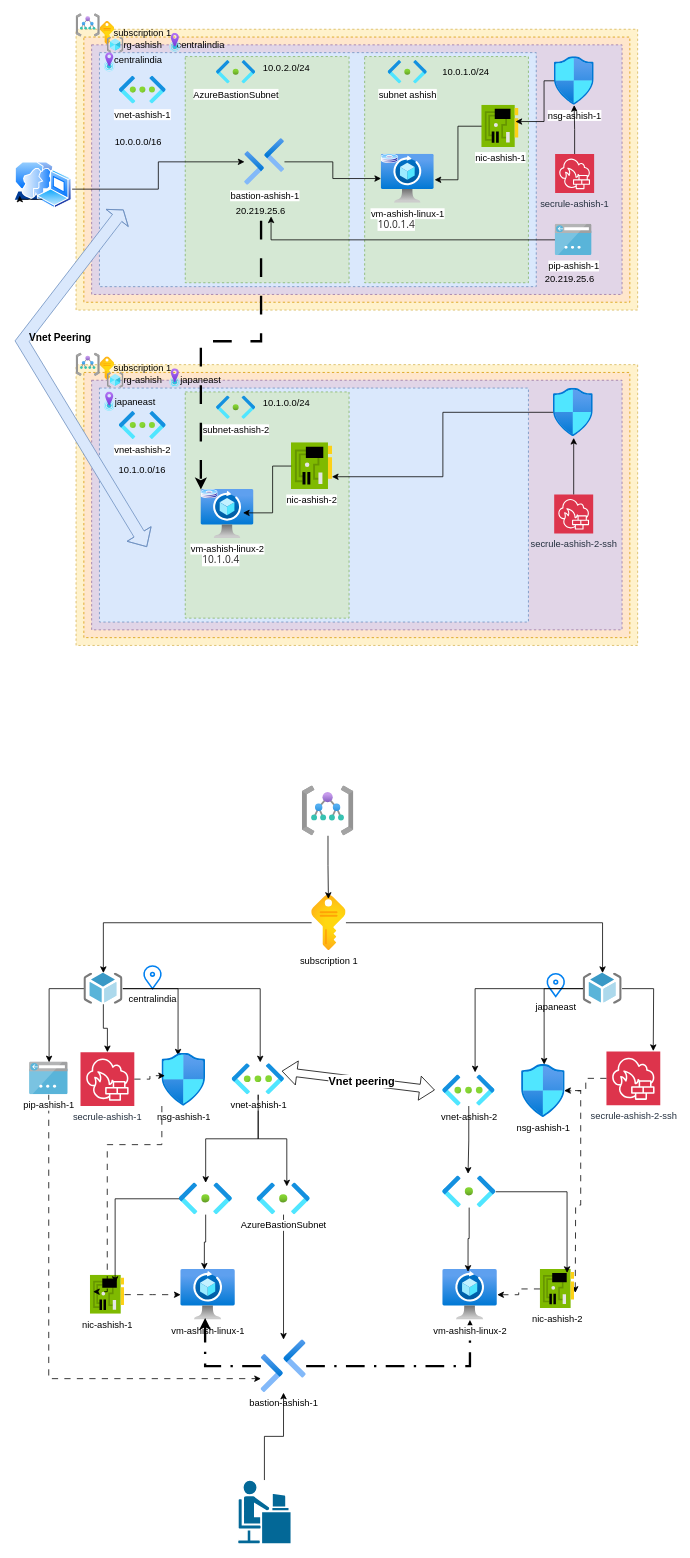
Some shapes in this 690 by 1558 pixel diagram are drawn without their labels. Each missing label, with the centre of its shape:
"ashish-subnet" belongs at point 205,1198.
"ashish-subnet-2" belongs at point 468,1191.
"nsg-ashish-2" belongs at point 573,412.
"rg-ashish-1" belongs at point 102,988.
"rg-ashish-2" belongs at point 602,988.
